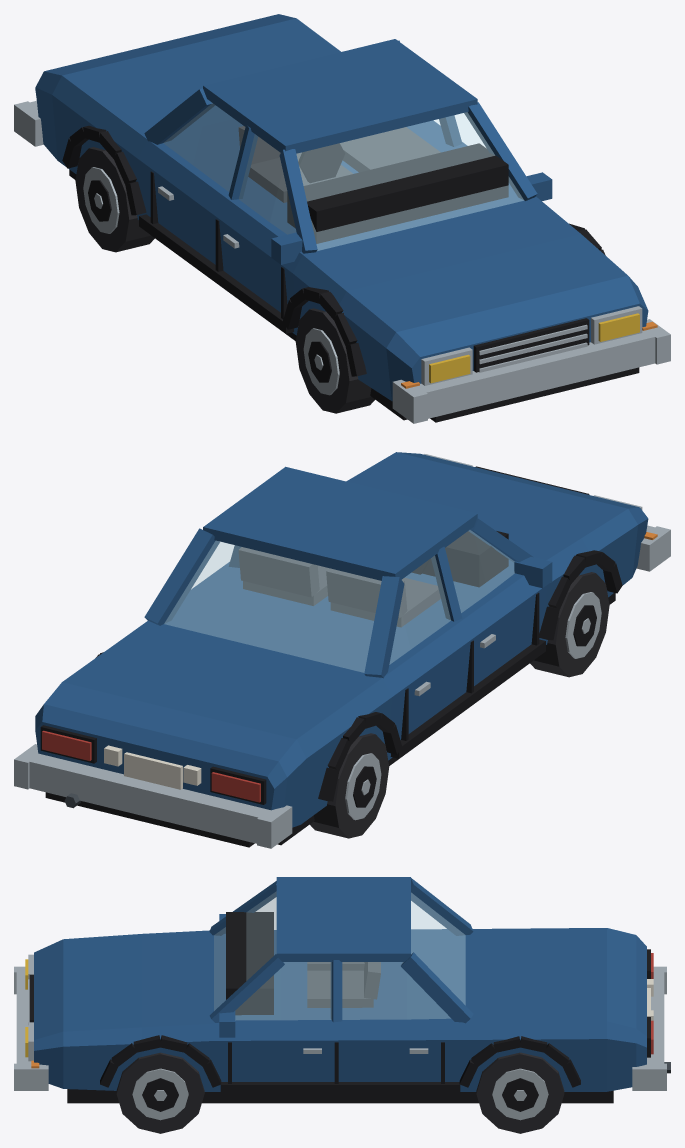
The model's file is GV_Sedan_Blue_01.glb.
3 renders of one model, top to bottom at view 1: azimuth 30°, elevation 25°; view 2: azimuth 150°, elevation 25°; view 3: azimuth 270°, elevation 25°, orthographic. The views are drawn at different scales.
Parts seen in each view (by area): view 1: GV_Sedan_Blue_01; view 2: GV_Sedan_Blue_01; view 3: GV_Sedan_Blue_01.
Part boxes in pixels (box(x1,y1,x2,y2)): GV_Sedan_Blue_01: box(14, 14, 670, 423); GV_Sedan_Blue_01: box(14, 452, 670, 848); GV_Sedan_Blue_01: box(14, 877, 670, 1133).
Bounding box in the file's own units: 1.92 × 1.38 × 4.93.
Materials: 2 (2 with a texture image).
